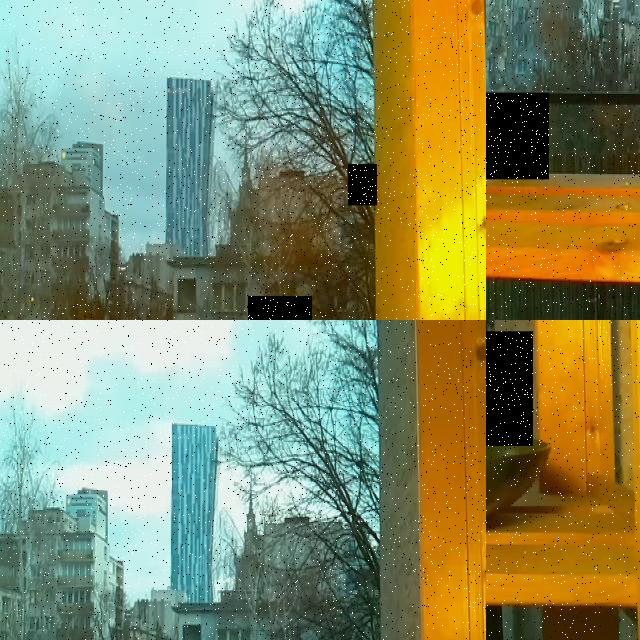Bogatka: (486, 331, 533, 445), (348, 164, 377, 205)
Modraszka: (486, 92, 549, 179), (248, 296, 312, 320)
